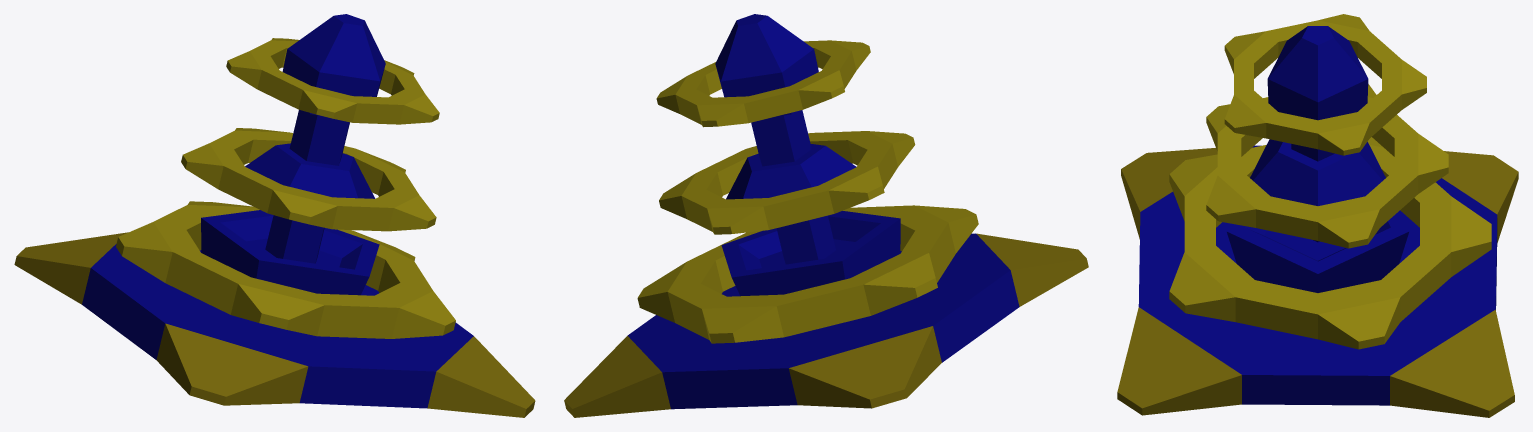
File: turret_blue_0.glb
The picture shows the model from 3 angles, left to right: view 1: azimuth 30°, elevation 25°; view 2: azimuth 150°, elevation 25°; view 3: azimuth 270°, elevation 25°; orthographic projection. The views are drawn at different scales.
Visible parts, largest first — view 1: MiddleEMPTurret1, BaseEMPTurret1_primitive1, Ring1EMPTurret1, BaseEMPTurret1_primitive0, Ring2EMPTurret1, Ring3EMPTurret1; view 2: MiddleEMPTurret1, BaseEMPTurret1_primitive1, Ring1EMPTurret1, BaseEMPTurret1_primitive0, Ring2EMPTurret1, Ring3EMPTurret1; view 3: BaseEMPTurret1_primitive1, Ring1EMPTurret1, BaseEMPTurret1_primitive0, MiddleEMPTurret1, Ring2EMPTurret1, Ring3EMPTurret1.
Part boxes in pixels (x1,y1,x2,y2): MiddleEMPTurret1: [201, 14, 385, 295]; BaseEMPTurret1_primitive1: [82, 244, 473, 408]; Ring1EMPTurret1: [116, 201, 455, 338]; BaseEMPTurret1_primitive0: [14, 232, 535, 417]; Ring2EMPTurret1: [181, 128, 436, 231]; Ring3EMPTurret1: [226, 38, 439, 124]; MiddleEMPTurret1: [715, 14, 900, 296]; BaseEMPTurret1_primitive1: [627, 233, 1019, 409]; Ring1EMPTurret1: [637, 205, 978, 343]; BaseEMPTurret1_primitive0: [564, 233, 1088, 417]; Ring2EMPTurret1: [659, 131, 915, 234]; Ring3EMPTurret1: [656, 40, 870, 127]; BaseEMPTurret1_primitive1: [1138, 145, 1497, 405]; Ring1EMPTurret1: [1169, 137, 1491, 349]; BaseEMPTurret1_primitive0: [1117, 148, 1518, 417]; MiddleEMPTurret1: [1226, 26, 1409, 292]; Ring2EMPTurret1: [1206, 84, 1448, 248]; Ring3EMPTurret1: [1224, 14, 1426, 155].
Size of the model in its own units: 0.9719 by 0.9376 by 1.
